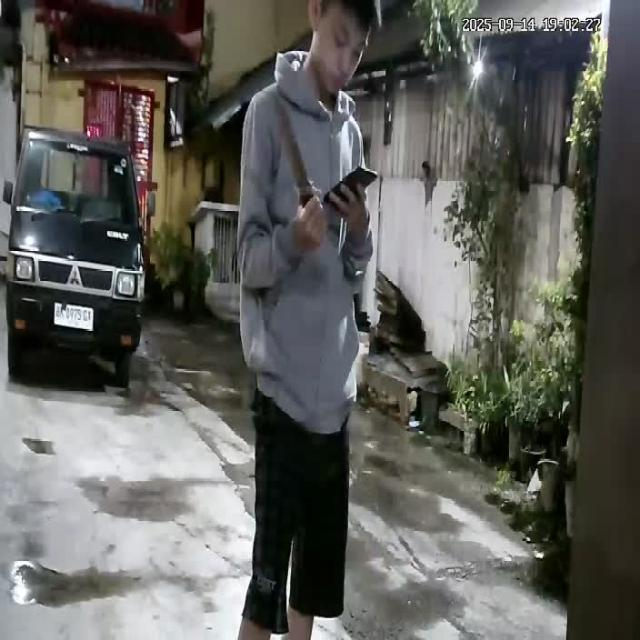senjata_tajam: (270, 89, 316, 202)
